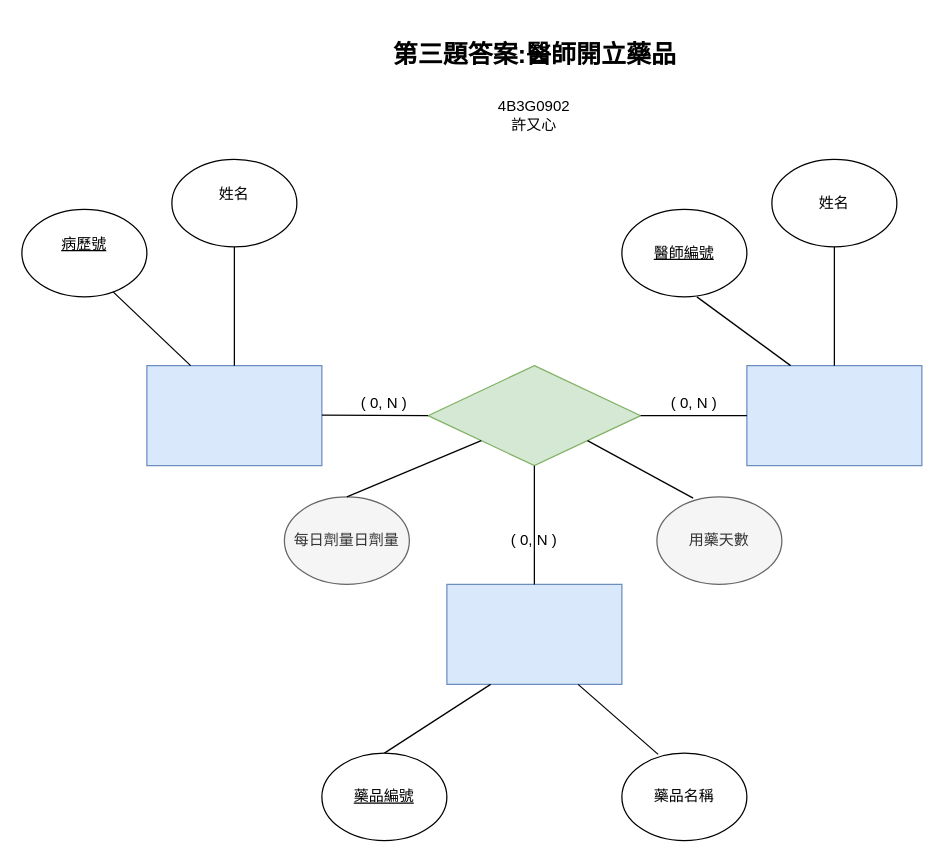
Image size: 944x863. Some labels were removed from this diagram. Here are the shapes that lost their labels. From the top down, the box of each, then its label:
(146, 364, 322, 466): 病患
(427, 364, 641, 466): 處方事實
(746, 364, 922, 466): 醫師
(446, 583, 622, 684): 藥品
